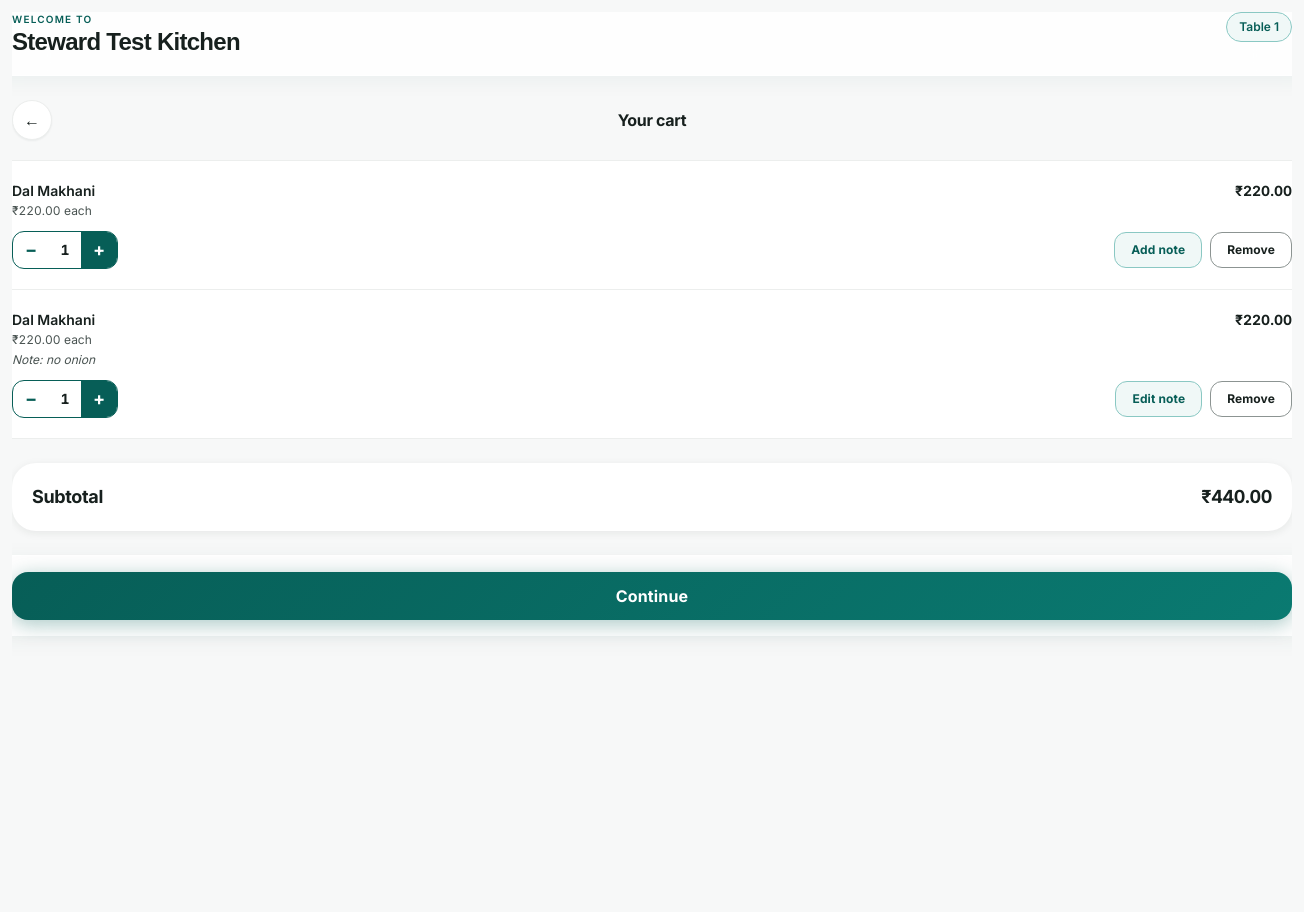
Test: special instructions on the cart page › merges two lines when their instructions become the same
Expected: the heading "Your cart" is shown, [618,110,686,130]
Click the button with aria-label "Add instructions for Dal Makhani": (1158, 250) [1114,232,1202,268]
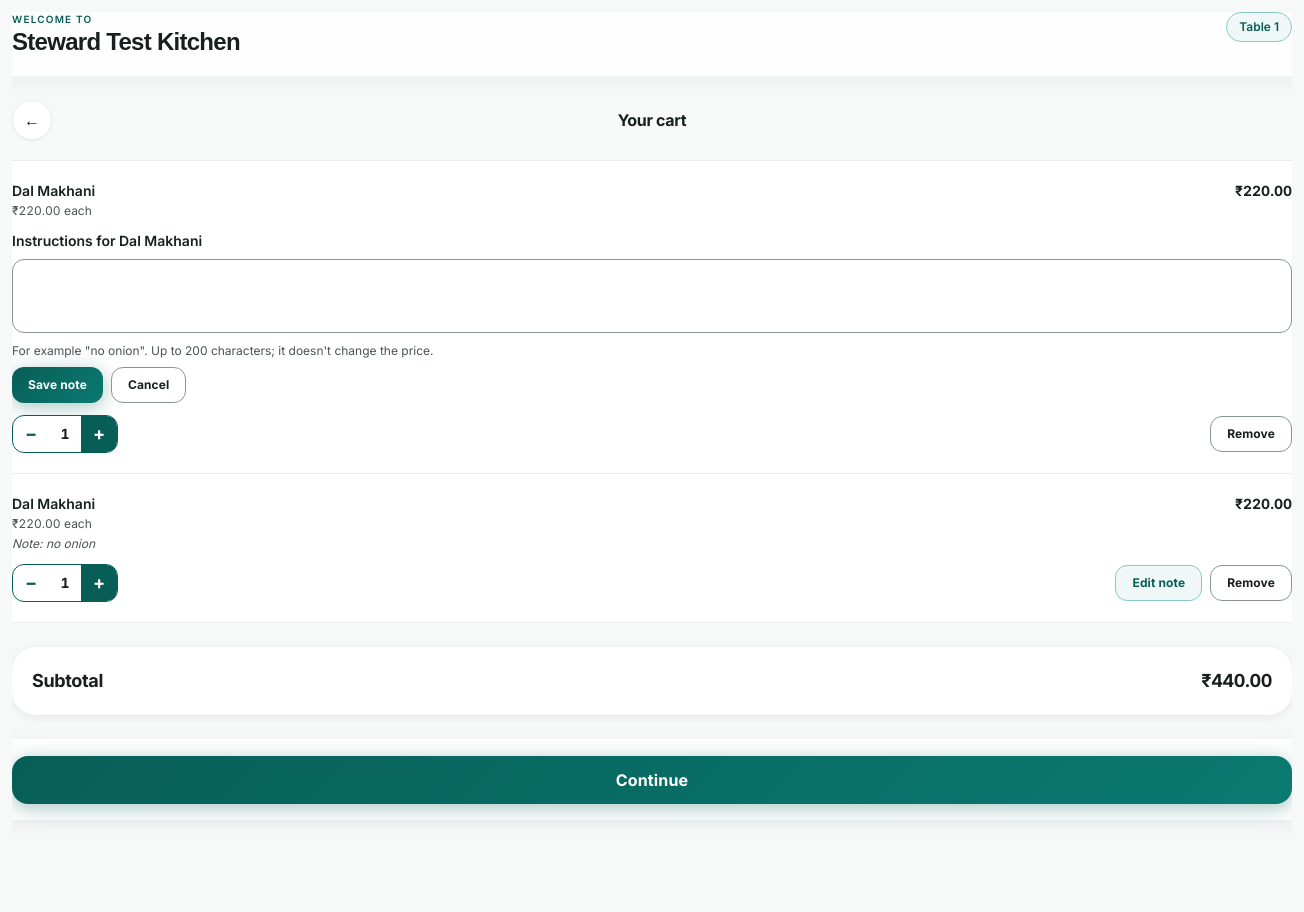
In the text box labelled "Instructions for Dal Makhani": (652, 296) [12,259,1292,333], type "no onion"
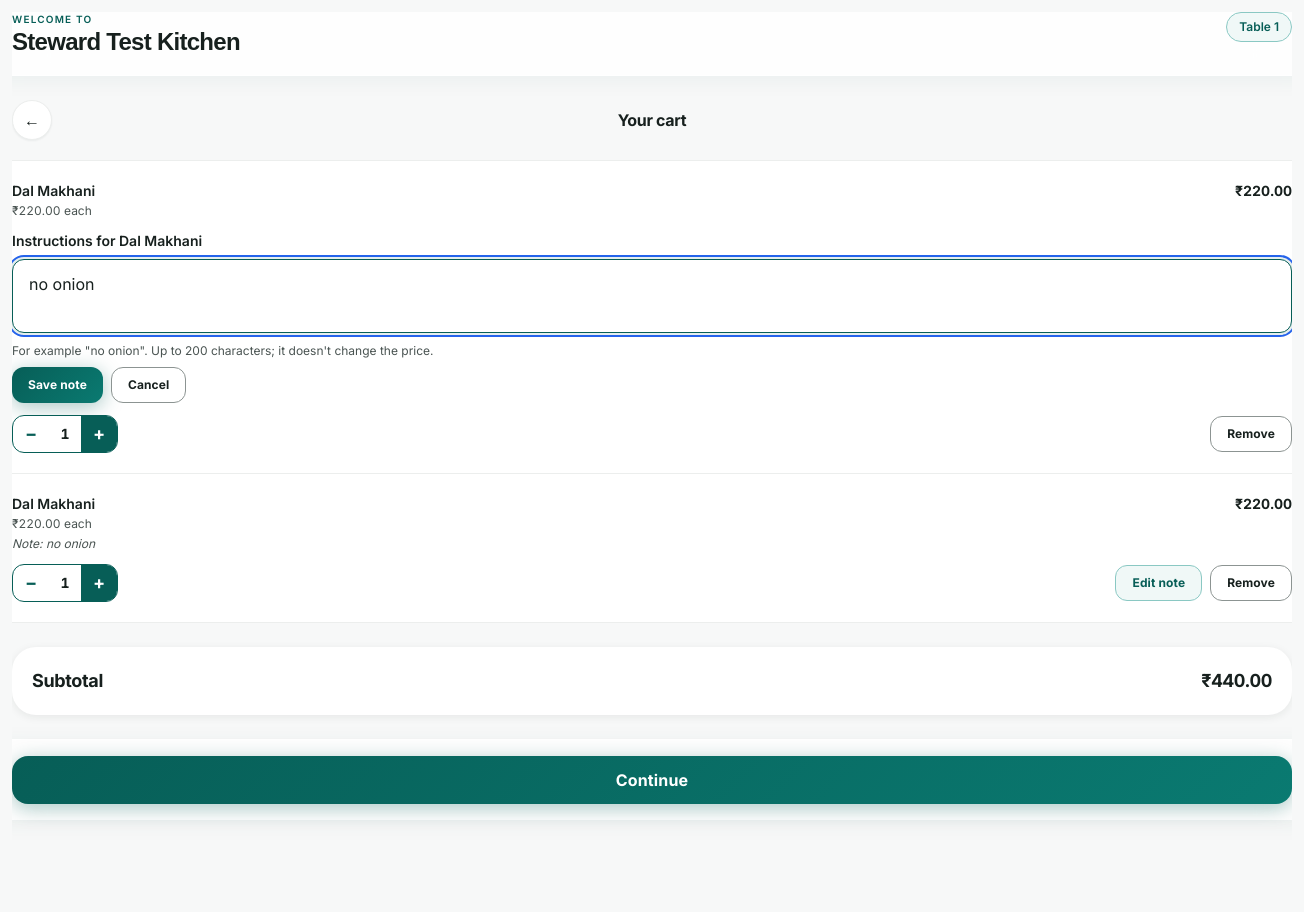
Click the button "Save note": (57, 385) [12,367,103,403]
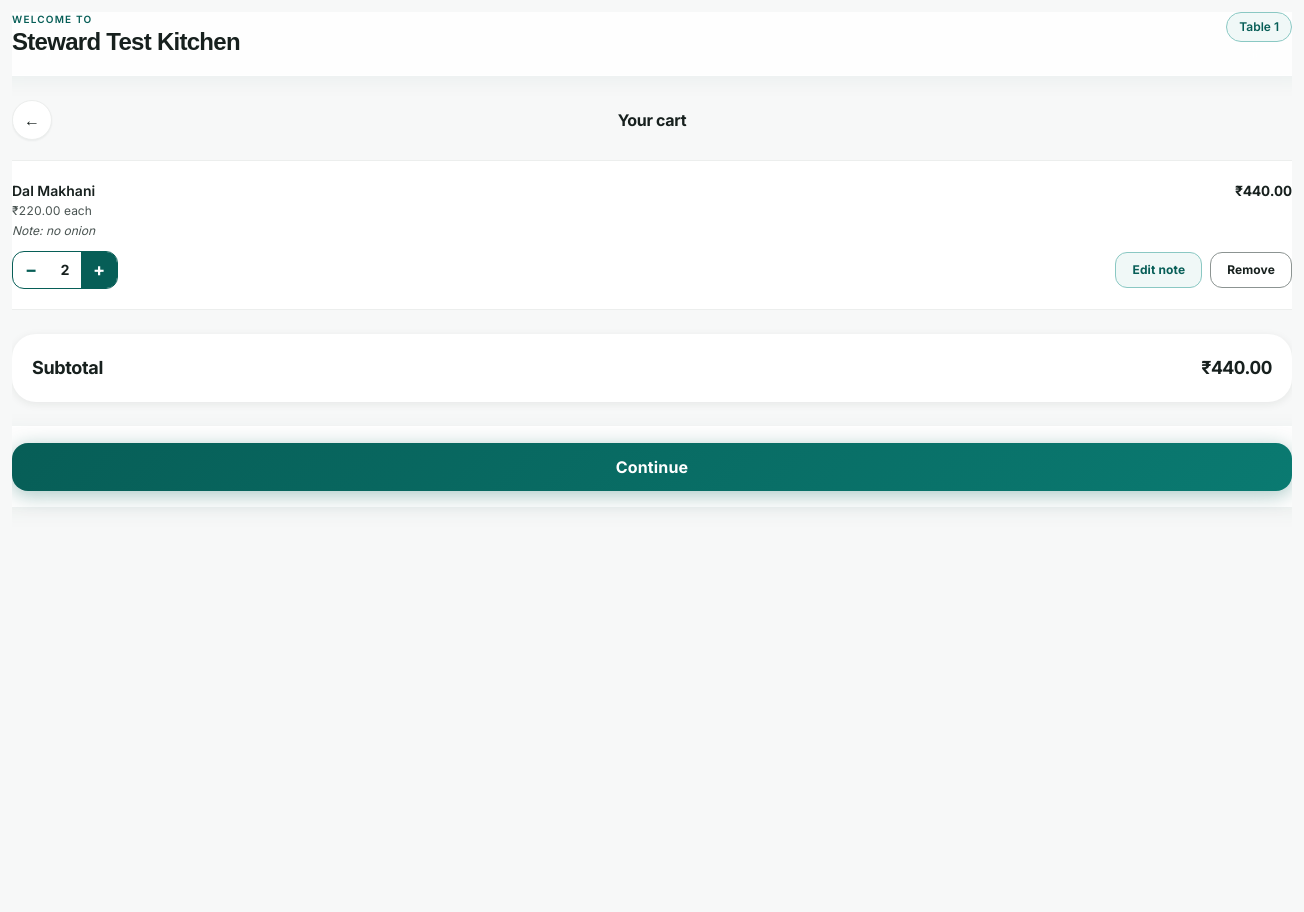
Expected: the element named "Dal Makhani (no onion) quantity" shows "2", [60,261,70,278]
